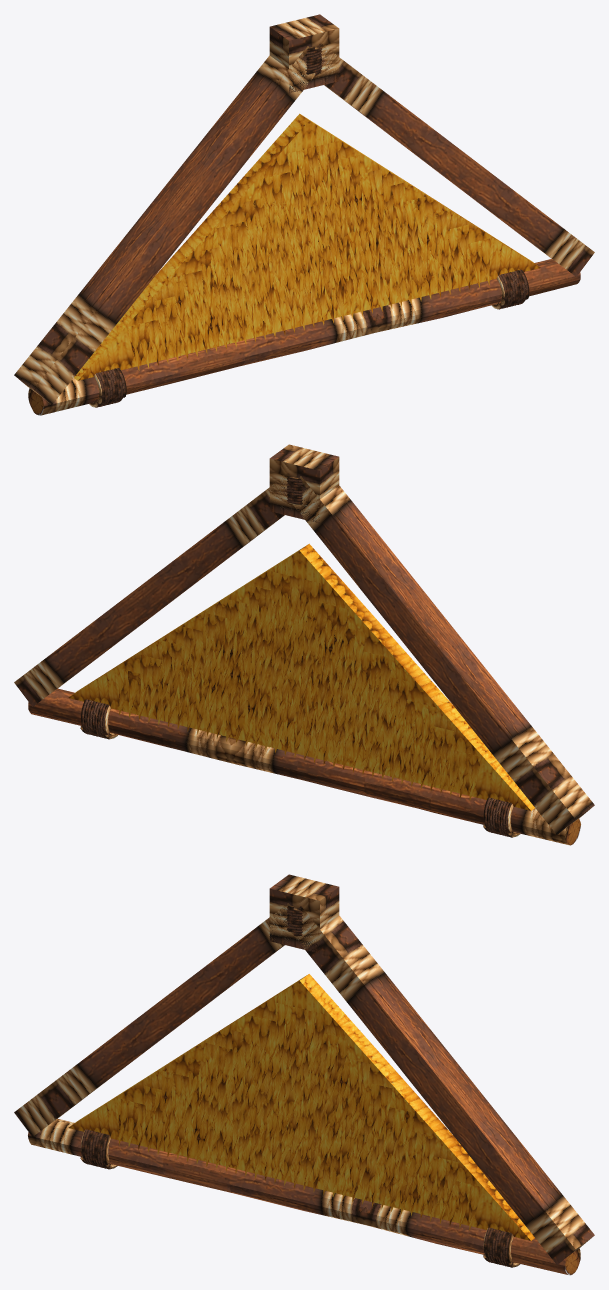
Rendered from Haus_Giebel.glb.
3 views of the same model, one above another, from view 1: azimuth 30°, elevation 25°; view 2: azimuth 150°, elevation 25°; view 3: azimuth 330°, elevation 25° (orthographic).
Visible parts, largest first — view 1: giebel; view 2: giebel; view 3: giebel.
Part boxes in pixels (box(x1,y1,x2,y2)): giebel: box(14, 14, 594, 415); giebel: box(14, 444, 594, 845); giebel: box(14, 874, 594, 1275).
Bounding box in the file's own units: 3.35 × 1.86 × 0.2248.
Materials: 4 (4 with a texture image).
